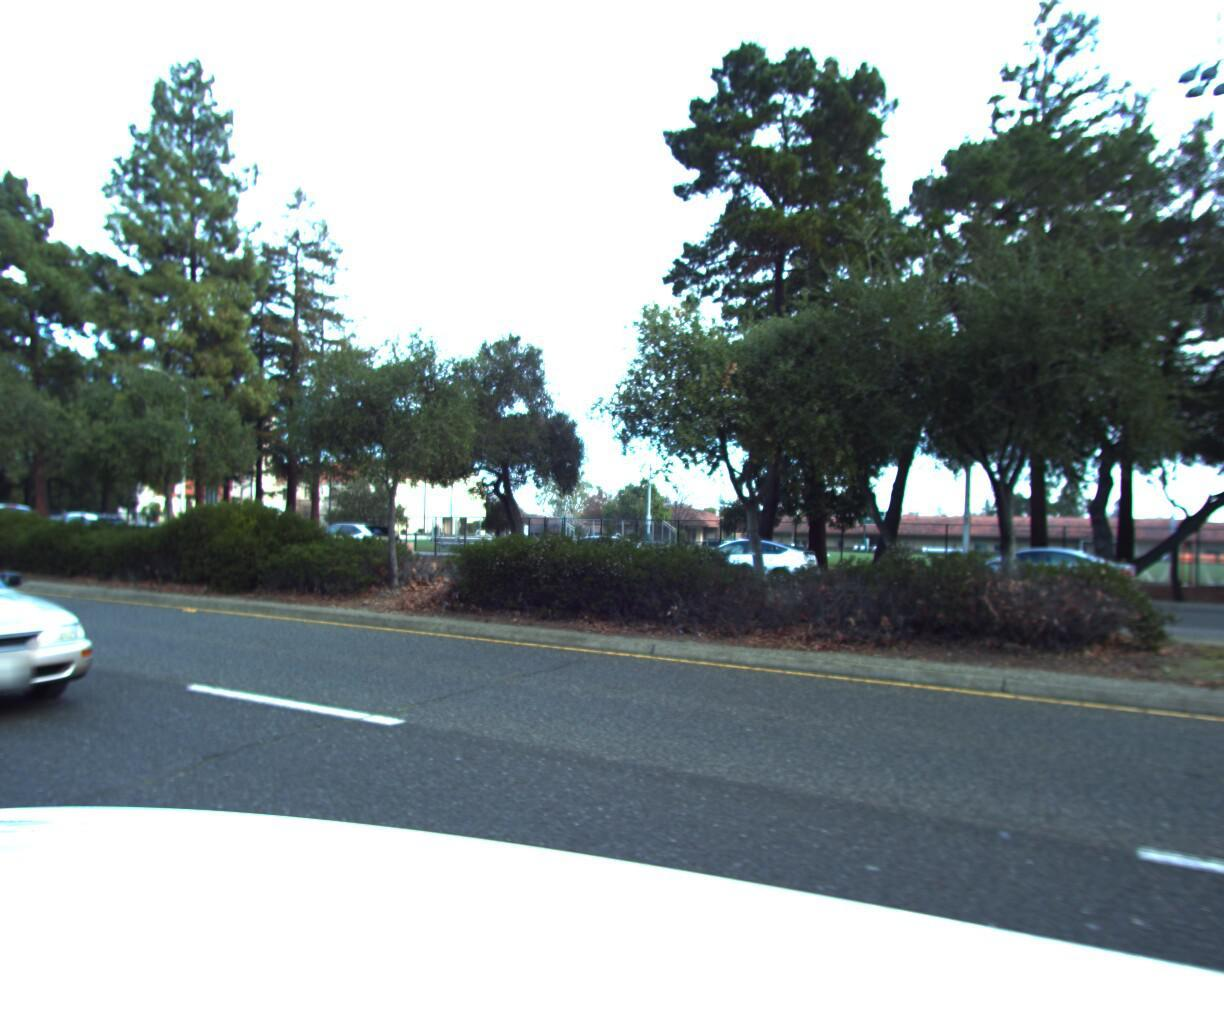car: (928, 538, 1142, 610), (671, 530, 827, 590), (528, 528, 673, 581), (290, 516, 409, 565), (23, 508, 142, 556)
